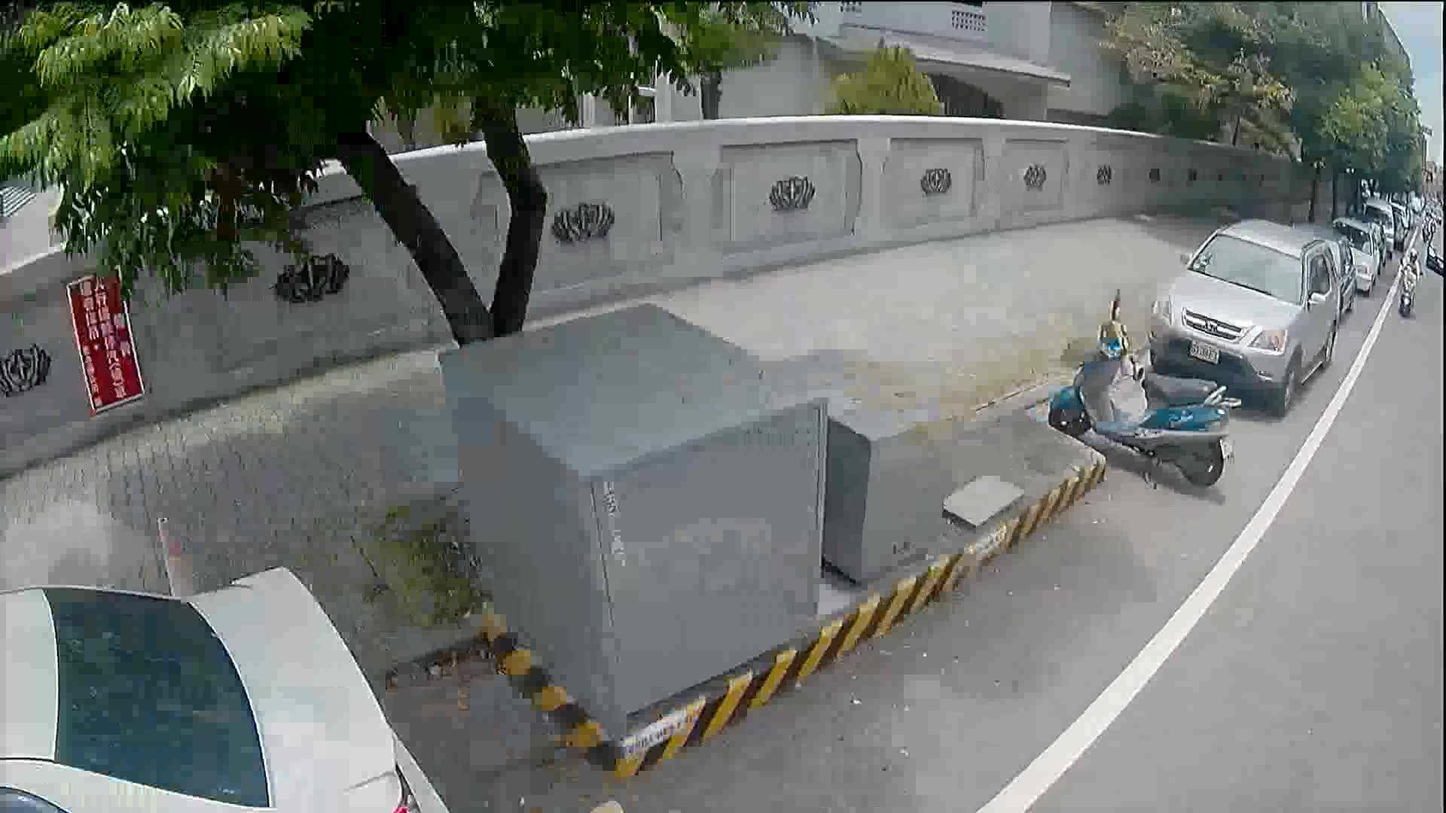person: (1401, 247, 1420, 275)
